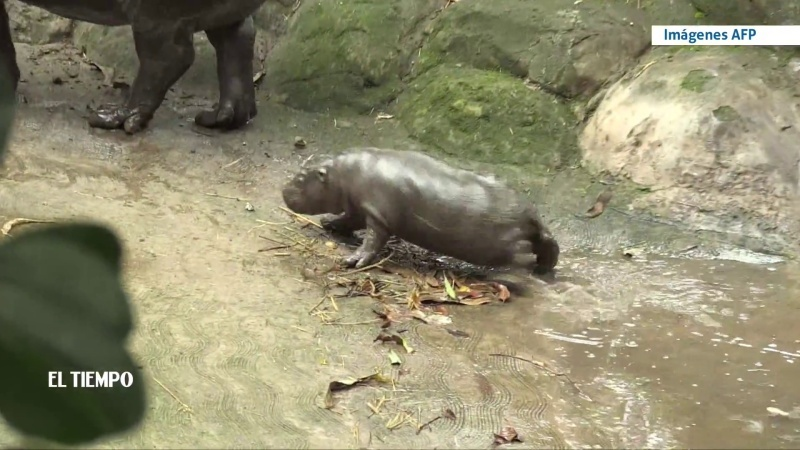hipopotamo: (263, 130, 614, 326)
